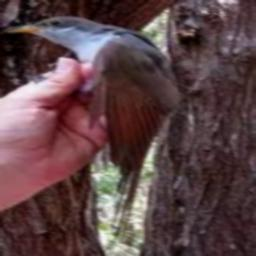Cuckoo: (4, 16, 180, 241)
